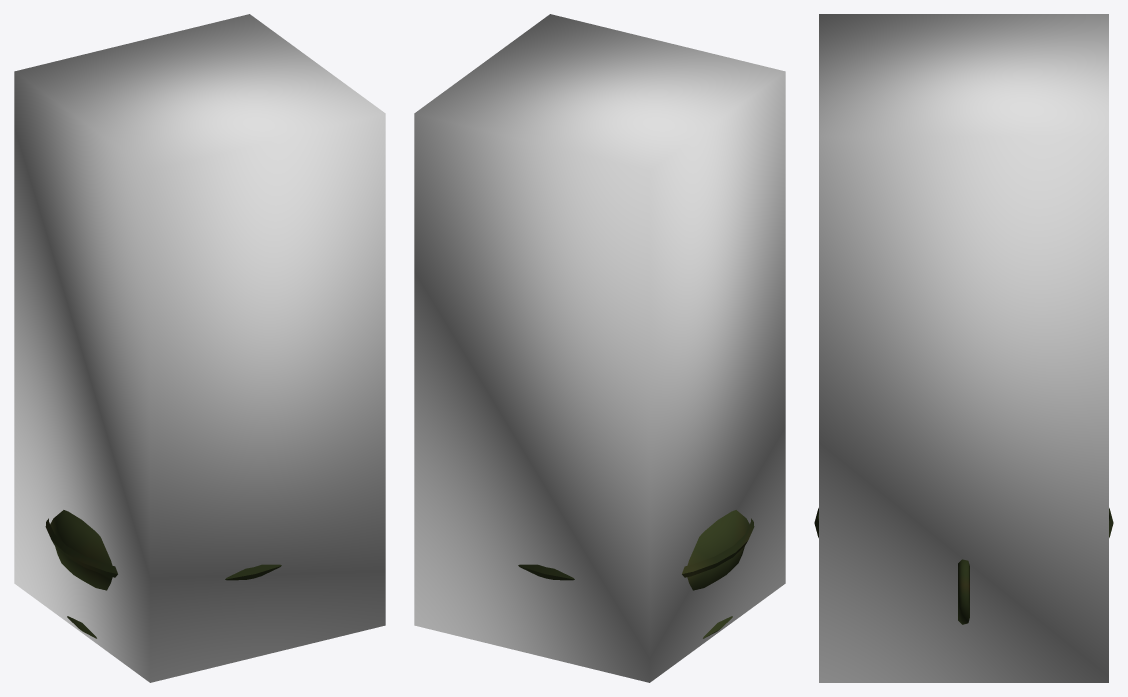
File: quinque.glb
3 renders of one model, left to right at view 1: azimuth 30°, elevation 25°; view 2: azimuth 150°, elevation 25°; view 3: azimuth 270°, elevation 25°, orthographic. The views are drawn at different scales.
Visible parts, largest first — view 1: quinque-colcaja, deposito; view 2: quinque-colcaja, deposito; view 3: quinque-colcaja, deposito.
Boxes of the visible parts, box(x1,y1,x2,y2) form: quinque-colcaja: box(14, 14, 385, 682); deposito: box(45, 510, 281, 638); quinque-colcaja: box(414, 14, 785, 682); deposito: box(518, 510, 754, 638); quinque-colcaja: box(819, 14, 1108, 682); deposito: box(814, 508, 1113, 624).
Bounding box in the file's own units: 0.1557 × 0.27 × 0.134.
